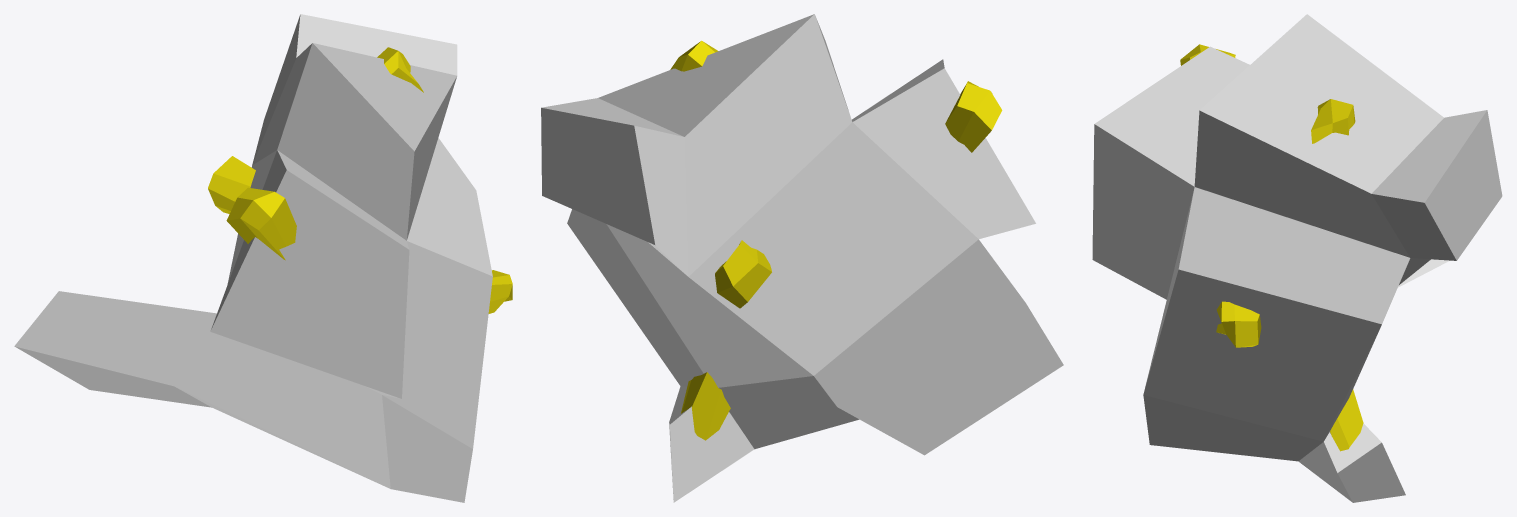
The model's file is ore.fbx.
3 views of the same model, side by side, from view 1: azimuth 30°, elevation 25°; view 2: azimuth 150°, elevation 25°; view 3: azimuth 270°, elevation 25° (orthographic). The views are drawn at different scales.
Visible parts, largest first — view 1: Cube, Cube.001, Cube.004, Cube.003, Cube.002; view 2: Cube, Cube.001, Cube.004, Cube.005, Cube.003; view 3: Cube, Cube.002, Cube.003, Cube.005.
Boxes of the visible parts, box(x1,y1,x2,y2) form: Cube: box(14, 14, 492, 502); Cube.001: box(226, 187, 296, 260); Cube.004: box(208, 156, 255, 213); Cube.003: box(377, 47, 423, 92); Cube.002: box(488, 270, 512, 313); Cube: box(541, 14, 1063, 502); Cube.001: box(945, 81, 1002, 152); Cube.004: box(715, 240, 771, 308); Cube.005: box(681, 372, 730, 440); Cube.003: box(670, 40, 718, 71); Cube: box(1092, 14, 1502, 502); Cube.002: box(1216, 301, 1261, 347); Cube.003: box(1311, 99, 1355, 143); Cube.005: box(1330, 389, 1363, 451).
Size of the model in its own units: 412 by 382 by 321.
